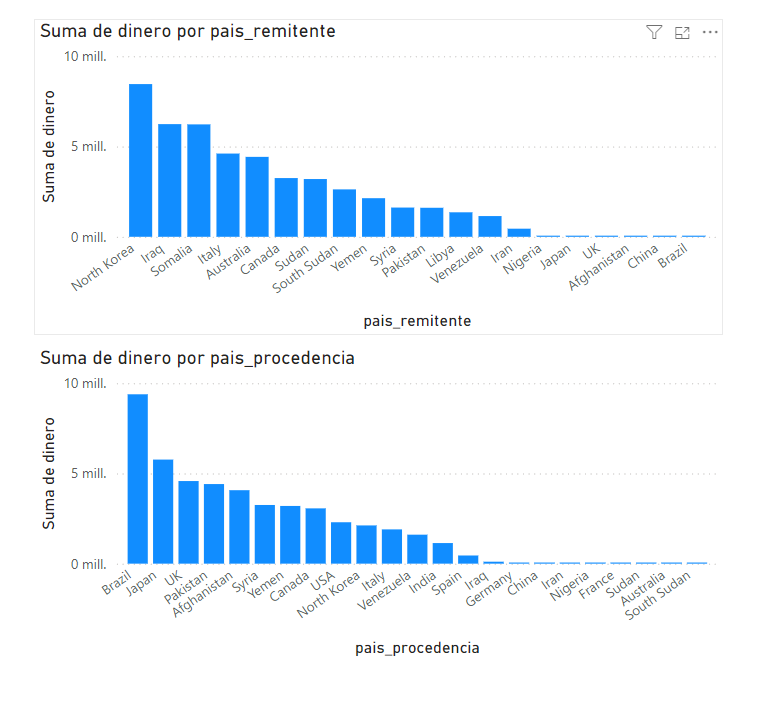

What the dashboard file says about the page in this screenshot:
{"tool":"powerbi","page":{"name":"Página 1","canvas":[1280,720],"ordinal":0},"visuals":[{"type":"columnChart","fields":{"Category":["9000&offset=0.pais_remitente"],"Y":["Sum(9000&offset=0.dinero)"]},"box":[61.3,34,610.8,280.1],"z":0},{"type":"columnChart","fields":{"Category":["9000&offset=0.pais_procedencia"],"Y":["Sum(9000&offset=0.dinero)"]},"box":[61,324,611,280],"z":1}]}

Visuals, with their boxes on the page's 1280x720 design canvas (x1, y1, x2, y2). These are canvas units, not pixel positions in the 778x718 screenshot, which may show the page scaled, cropped or inside an application window:
columnChart - 9000&offset=0.pais_remitente x Sum(9000&offset=0.dinero): l=61, t=34, r=672, b=314
columnChart - 9000&offset=0.pais_procedencia x Sum(9000&offset=0.dinero): l=61, t=324, r=672, b=604
